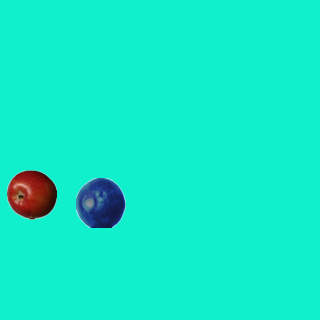Apple Braeburn: (6, 169, 56, 219)
Huckleberry: (75, 177, 125, 227)
